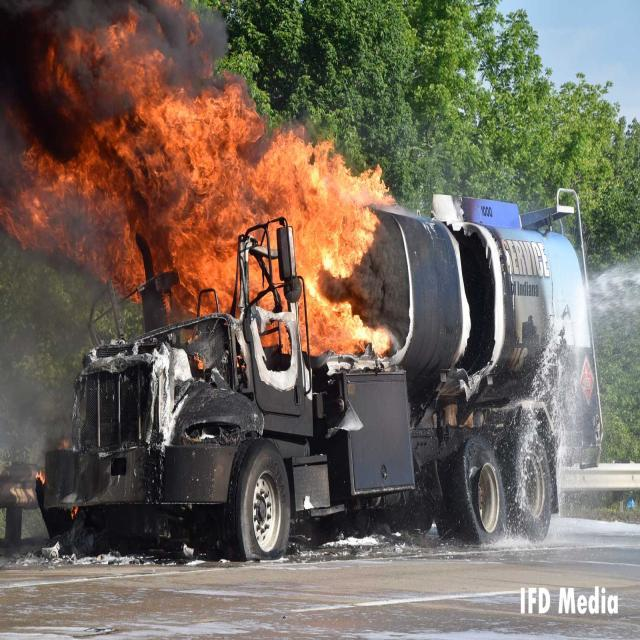Fire: (7, 24, 394, 358)
Smoke: (0, 0, 229, 161)
